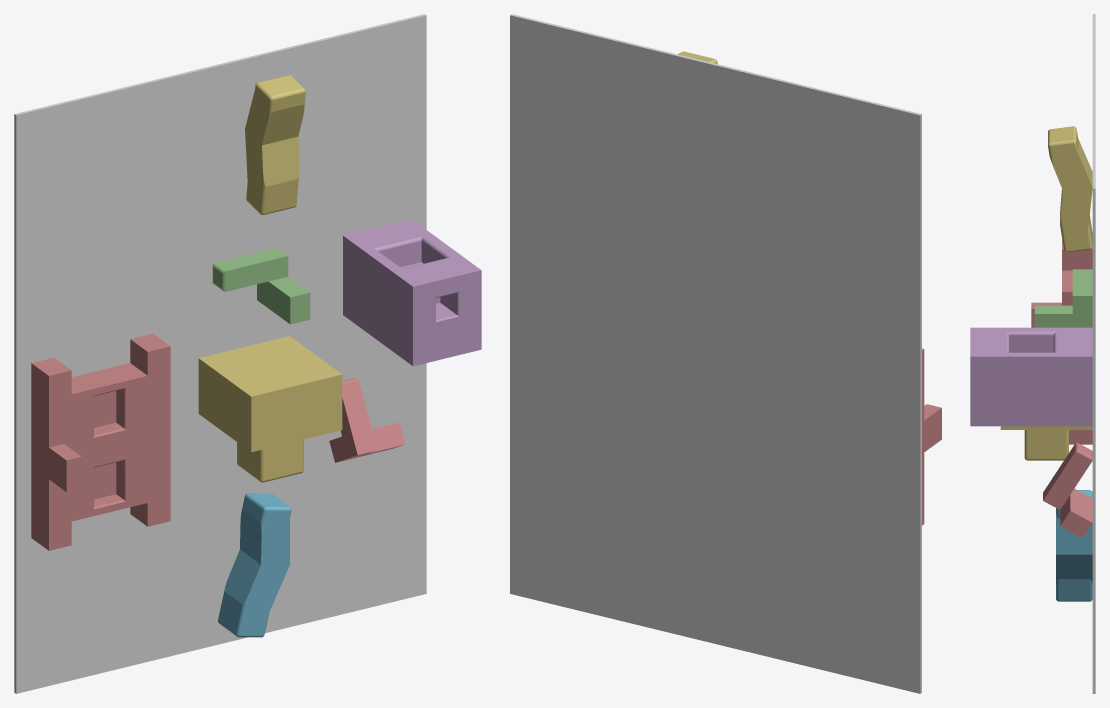
The model's file is pickup_layout.glb.
3 views of the same model, side by side, from view 1: azimuth 30°, elevation 25°; view 2: azimuth 150°, elevation 25°; view 3: azimuth 270°, elevation 25° (orthographic). The views are drawn at different scales.
Parts seen in each view (by area): view 1: world, 0.obj, 3.obj, 6.obj, 2.obj, 1.obj, 4.obj, 5.obj; view 2: world, 0.obj; view 3: 3.obj, 1.obj, 5.obj, 2.obj, world, 4.obj, 6.obj, 0.obj.
Boxes of the visible parts, x1,y1,x2,y2 form: world: (14, 14, 426, 693); 0.obj: (31, 333, 170, 550); 3.obj: (343, 219, 481, 366); 6.obj: (198, 336, 342, 482); 2.obj: (218, 493, 291, 637); 1.obj: (245, 75, 305, 215); 4.obj: (212, 247, 310, 324); 5.obj: (329, 378, 405, 462); world: (510, 14, 921, 693); 0.obj: (922, 348, 941, 525); 3.obj: (970, 327, 1092, 426); 1.obj: (1048, 126, 1092, 252); 5.obj: (1043, 442, 1092, 538); 2.obj: (1056, 490, 1092, 601); world: (1092, 14, 1095, 693); 4.obj: (1034, 269, 1092, 327); 6.obj: (1000, 426, 1092, 460); 0.obj: (1031, 240, 1092, 444).
Size of the model in its own units: 27 by 36.39 by 8.2.
